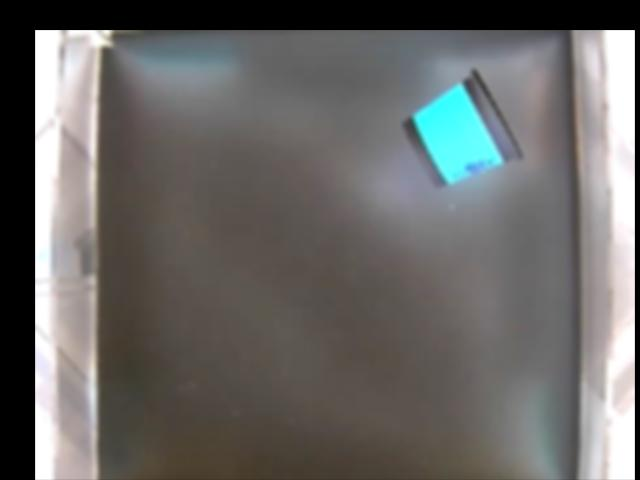Cup: (399, 65, 522, 190)
